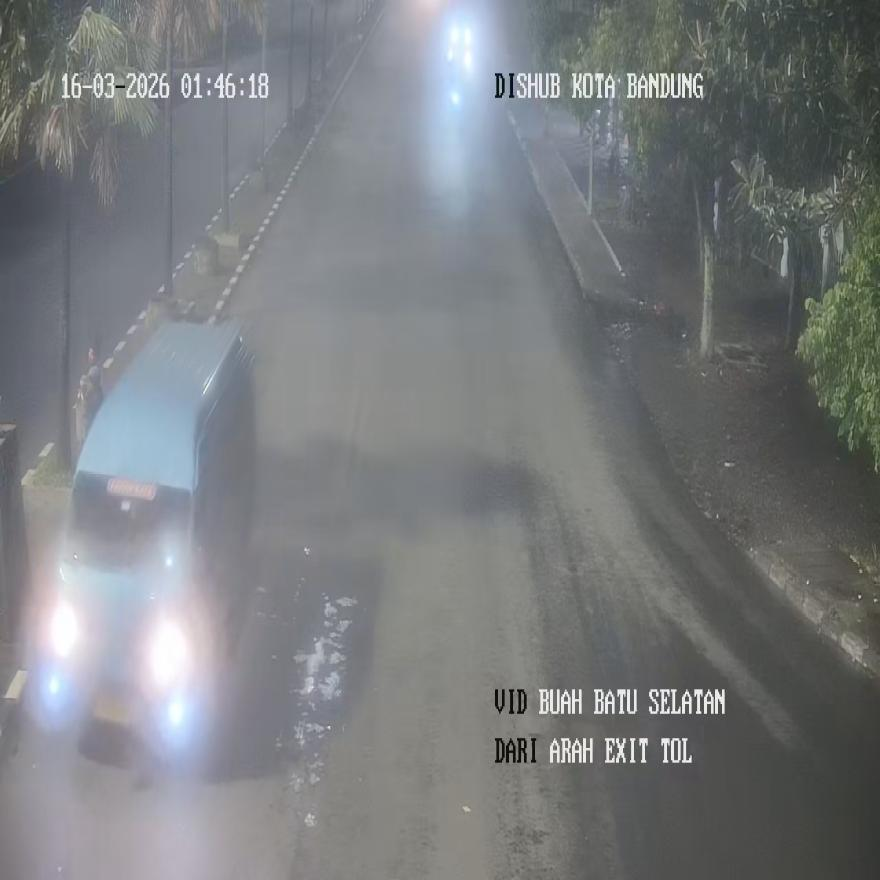Motor: (33, 318, 256, 756)
